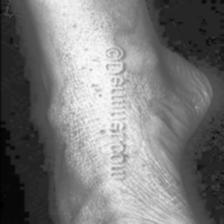Non-Cancerous Skin Condition: (57, 11, 106, 165), (62, 201, 114, 224)
